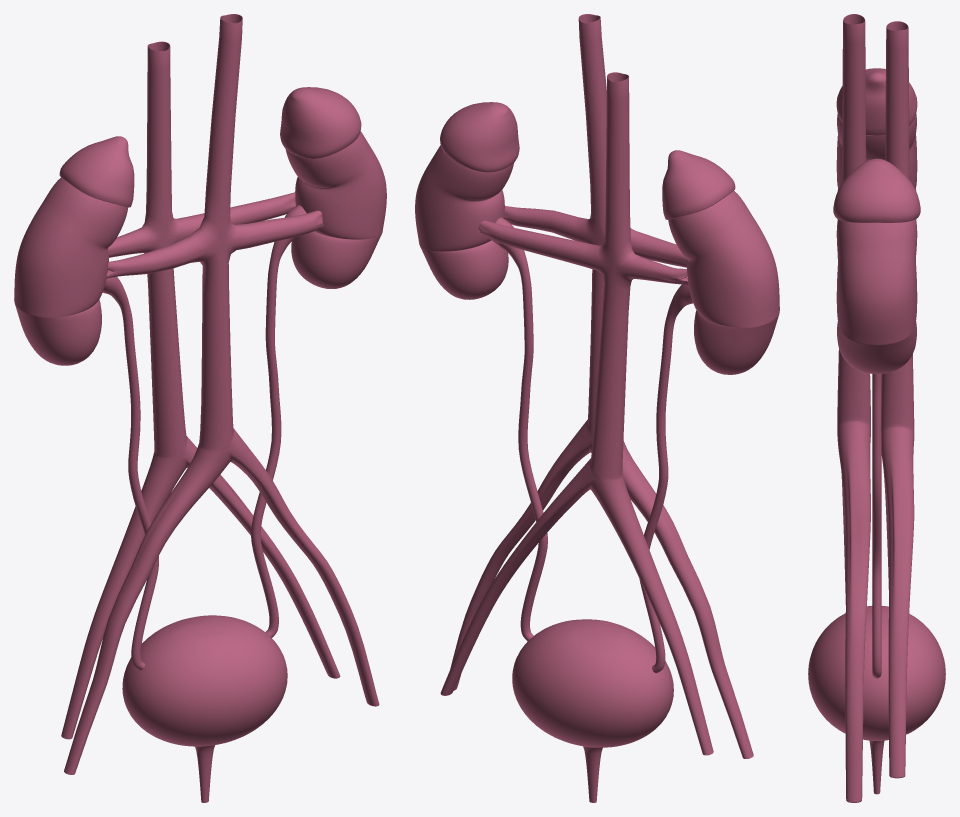
The model's file is EDU_Kidney_Urinary_20261016.glb.
3 renders of one model, left to right at view 1: azimuth 30°, elevation 25°; view 2: azimuth 150°, elevation 25°; view 3: azimuth 270°, elevation 25°, orthographic. The views are drawn at different scales.
Visible parts, largest first — view 1: EDU_Kidney_Urinary_20261016_Part_00_00; view 2: EDU_Kidney_Urinary_20261016_Part_00_00; view 3: EDU_Kidney_Urinary_20261016_Part_00_00.
Boxes of the visible parts, box(x1,y1,x2,y2) form: EDU_Kidney_Urinary_20261016_Part_00_00: box(14, 14, 386, 802); EDU_Kidney_Urinary_20261016_Part_00_00: box(415, 14, 779, 802); EDU_Kidney_Urinary_20261016_Part_00_00: box(808, 14, 945, 802).
Bounding box in the file's own units: 0.2873 × 0.6 × 0.0959.
